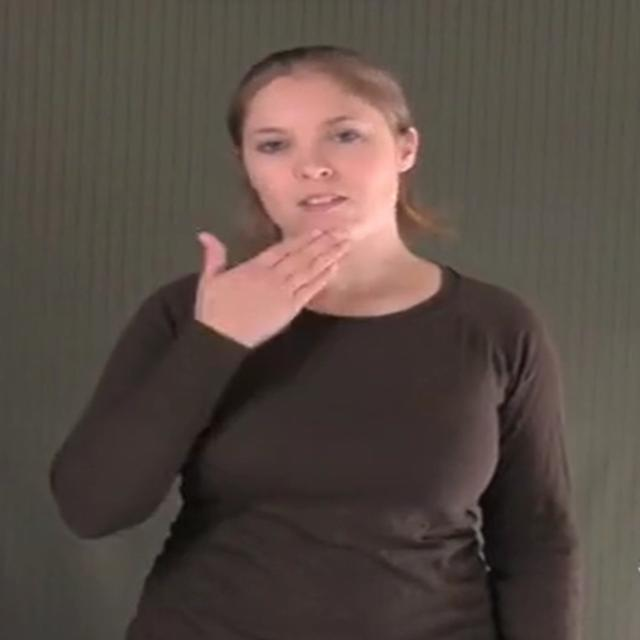thank-you: (196, 226, 349, 334)
